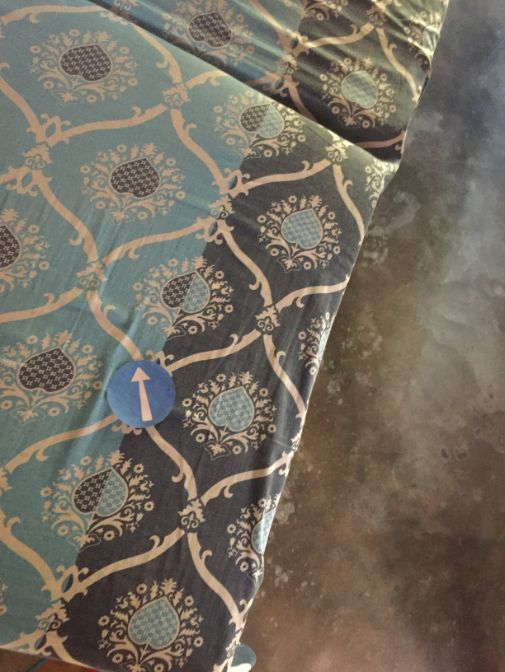keep-left: (107, 362, 174, 426)
